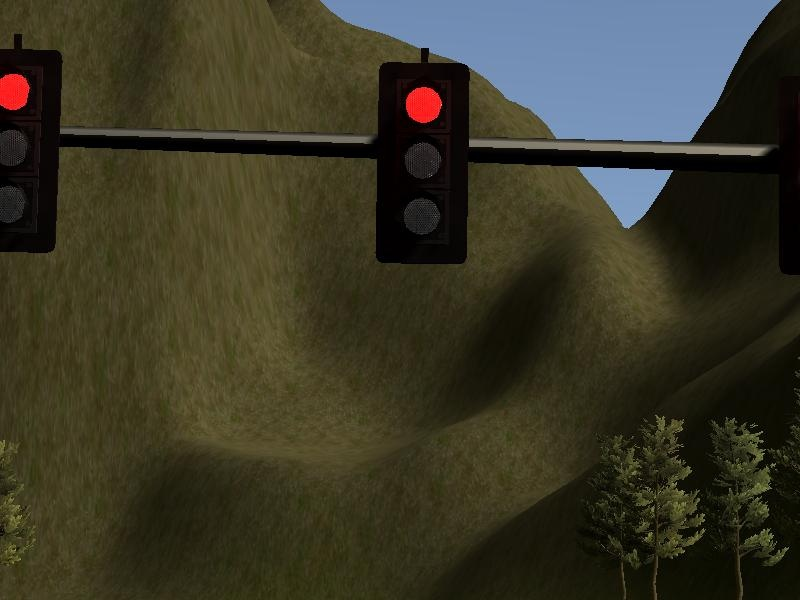Red: (378, 48, 462, 257), (1, 44, 47, 258)
